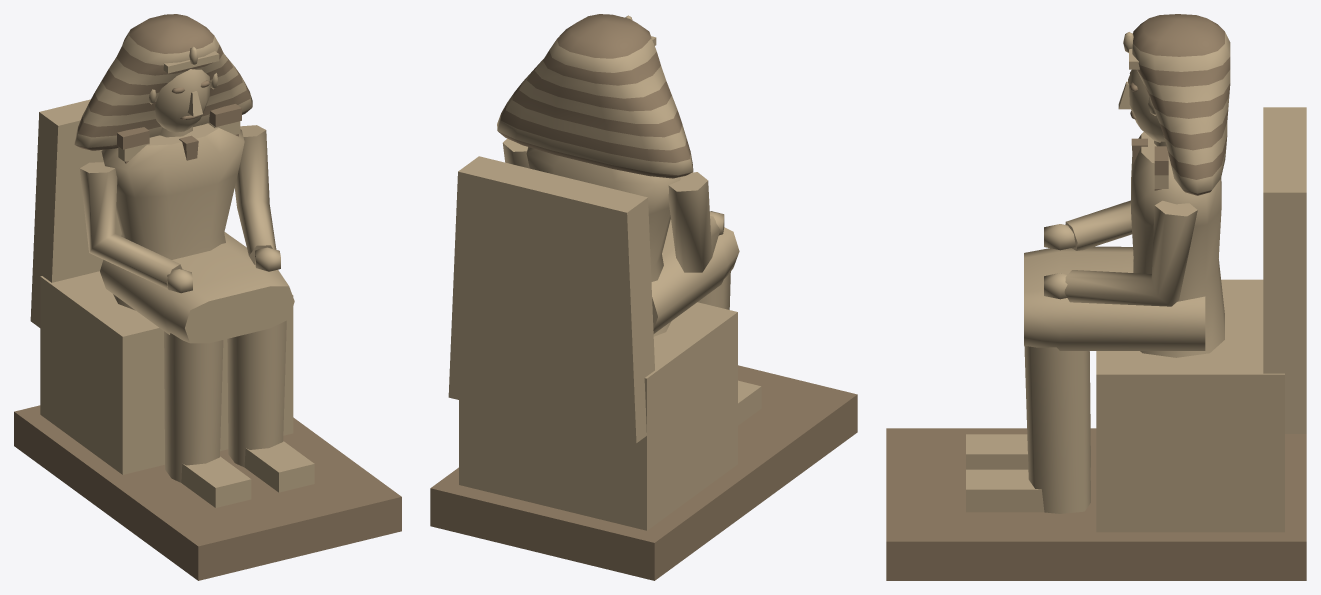
The model's file is statue_pharaoh.glb.
The picture shows the model from 3 angles, left to right: view 1: azimuth 30°, elevation 25°; view 2: azimuth 150°, elevation 25°; view 3: azimuth 270°, elevation 25°; orthographic projection. The views are drawn at different scales.
Parts seen in each view (by area): view 1: statue_pharaoh; view 2: statue_pharaoh; view 3: statue_pharaoh.
Boxes of the visible parts, bbox=[...] form: statue_pharaoh: bbox=[14, 14, 401, 580]; statue_pharaoh: bbox=[430, 14, 857, 580]; statue_pharaoh: bbox=[886, 14, 1306, 580].
Bounding box in the file's own units: 2.52 × 5.22 × 3.94.
